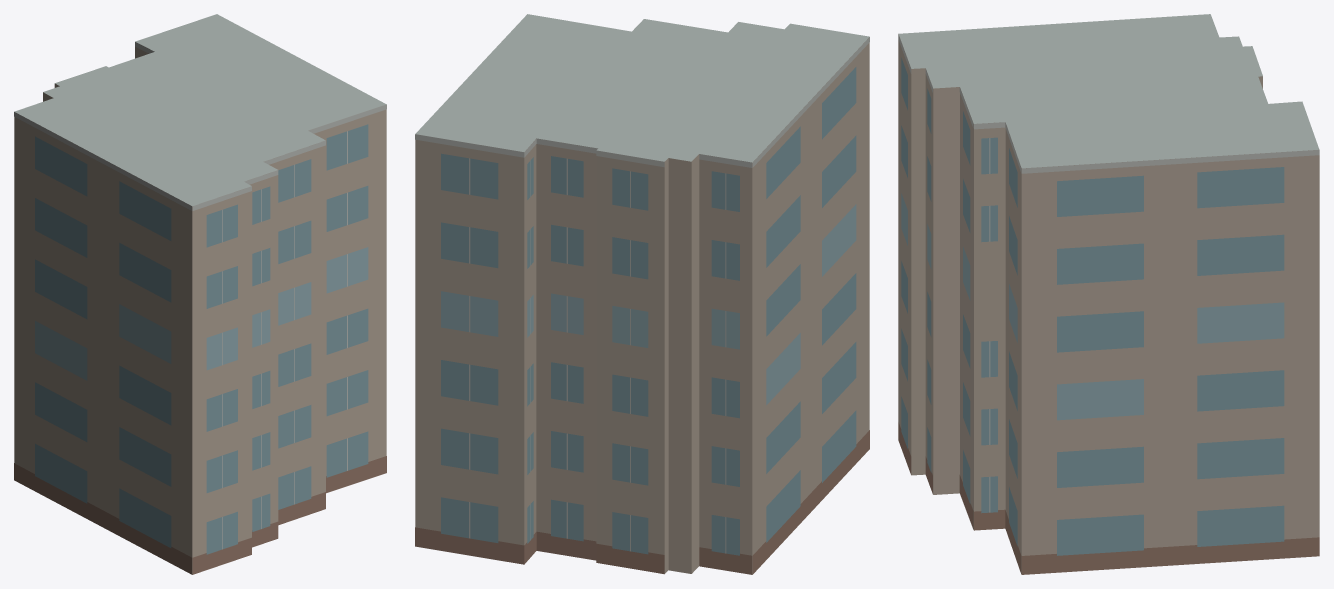
Rendered from survey-upis-32580551.glb.
3 views of the same model, side by side, from view 1: azimuth 30°, elevation 25°; view 2: azimuth 150°, elevation 25°; view 3: azimuth 270°, elevation 25° (orthographic). The views are drawn at different scales.
Visible parts, largest first — view 1: survey-upis-32580551.tmp; view 2: survey-upis-32580551.tmp; view 3: survey-upis-32580551.tmp.
Part boxes in pixels (left/top/right/bottom): survey-upis-32580551.tmp: left=14, top=14, right=386, bottom=574; survey-upis-32580551.tmp: left=415, top=14, right=869, bottom=574; survey-upis-32580551.tmp: left=898, top=14, right=1319, bottom=574.
Bounding box in the file's own units: 14.83 × 18.2 × 17.1.
